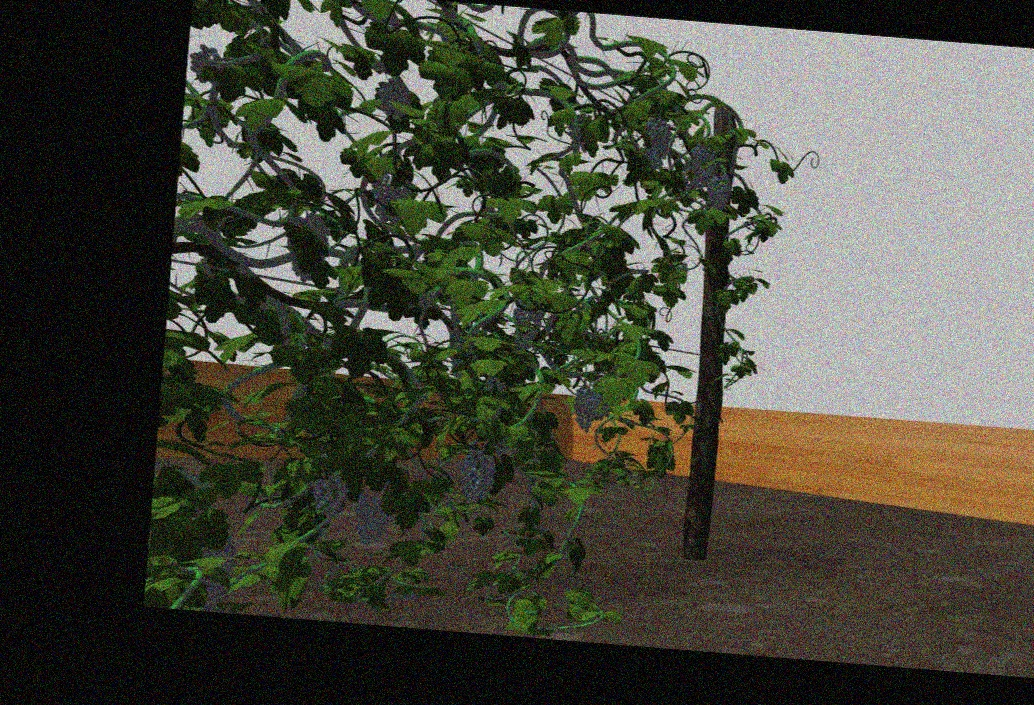grape: (194, 540, 236, 611), (350, 485, 392, 545), (459, 447, 495, 505), (311, 472, 348, 517), (639, 116, 670, 169), (374, 77, 413, 117), (686, 144, 718, 191), (187, 42, 225, 81), (511, 300, 545, 342), (571, 385, 598, 432), (707, 174, 730, 212)
